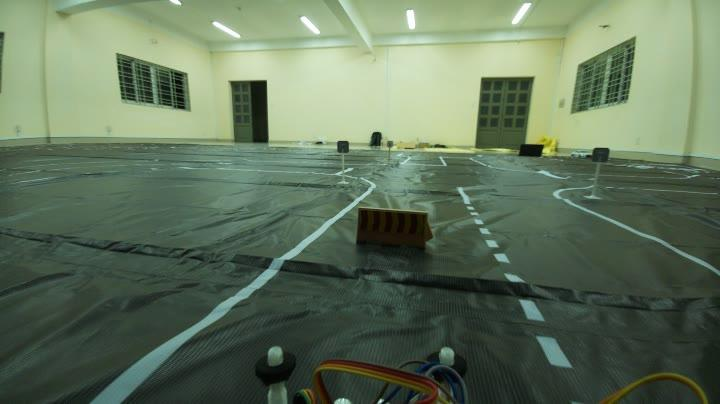roadblock: (352, 200, 436, 259)
